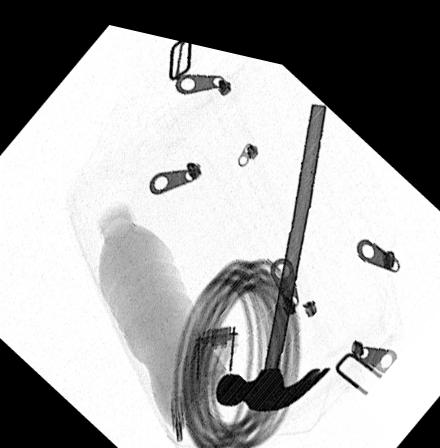Hammer: (215, 88, 332, 398)
